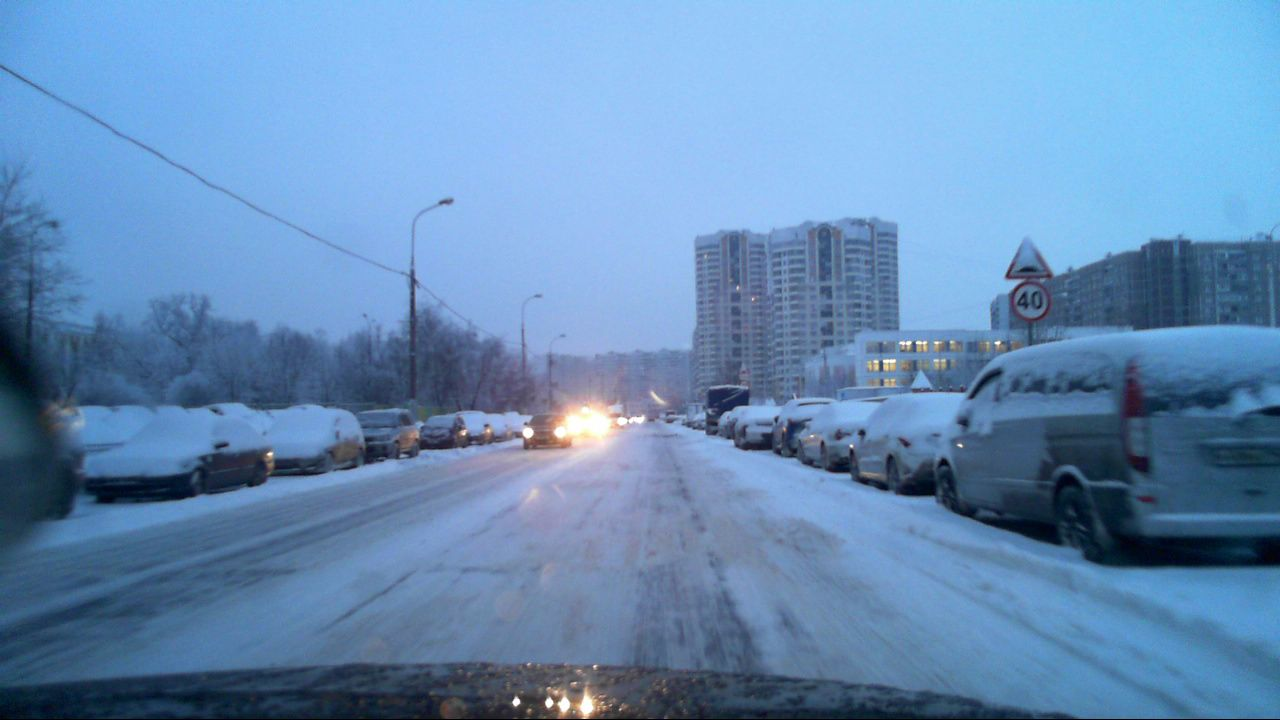speed_warning_40: (1009, 282, 1049, 320)
